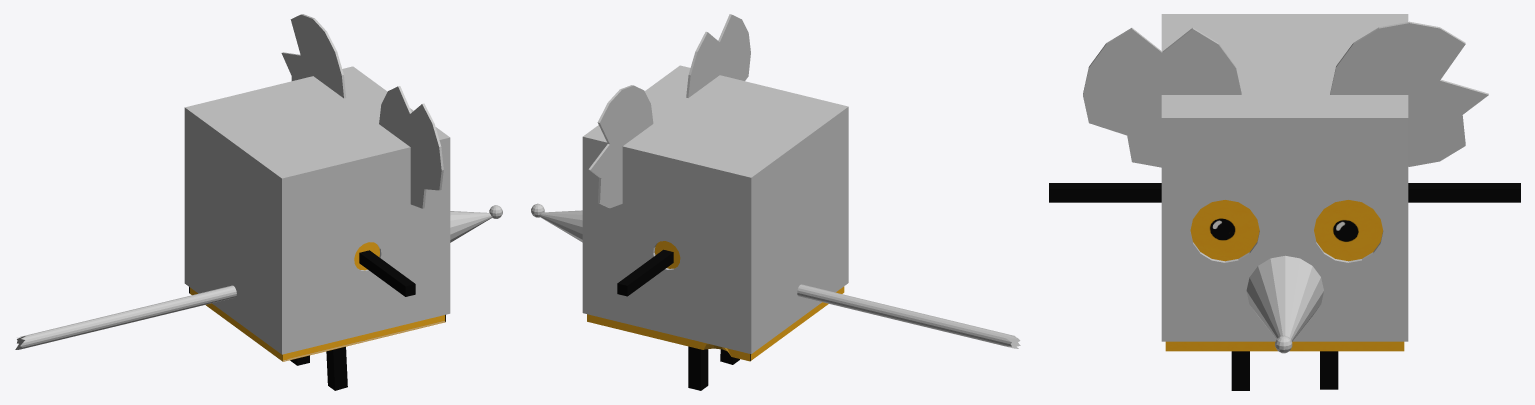
The model's file is FBX_Character_Cheese_and_Costume.fbx.
The picture shows the model from 3 angles, left to right: view 1: azimuth 30°, elevation 25°; view 2: azimuth 150°, elevation 25°; view 3: azimuth 270°, elevation 25°; orthographic projection. The views are drawn at different scales.
Parts seen in each view (by area): view 1: FBX_Cheese_Mouse, FBX_Character_Cheese; view 2: FBX_Cheese_Mouse, FBX_Character_Cheese; view 3: FBX_Cheese_Mouse, FBX_Character_Cheese.
Boxes of the visible parts, left/top/right/bottom form: FBX_Cheese_Mouse: left=15, top=14, right=502, bottom=354; FBX_Character_Cheese: left=189, top=242, right=445, bottom=390; FBX_Cheese_Mouse: left=531, top=14, right=1020, bottom=353; FBX_Character_Cheese: left=587, top=241, right=844, bottom=390; FBX_Cheese_Mouse: left=1083, top=14, right=1488, bottom=353; FBX_Character_Cheese: left=1049, top=183, right=1520, bottom=390.
Bounding box in the file's own units: 0.0448 × 0.0272 × 0.0297.
